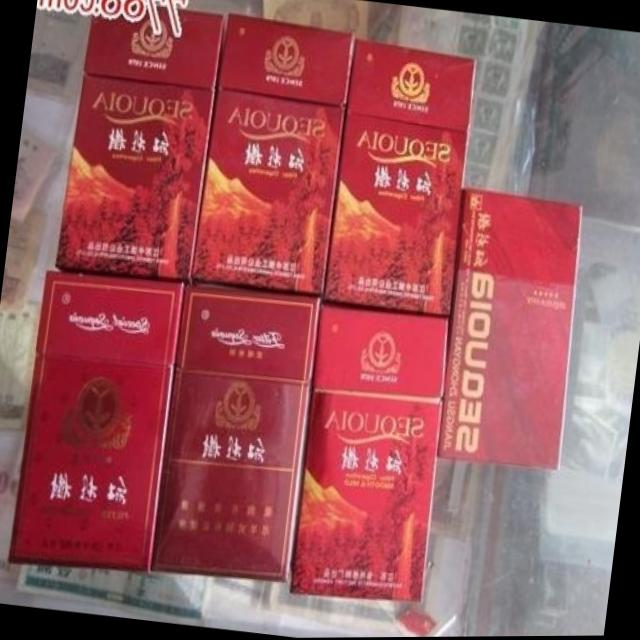box: (5, 268, 184, 572), (150, 281, 322, 584), (289, 300, 451, 604), (55, 2, 225, 280), (191, 12, 352, 295), (321, 39, 477, 319), (437, 188, 581, 471)
